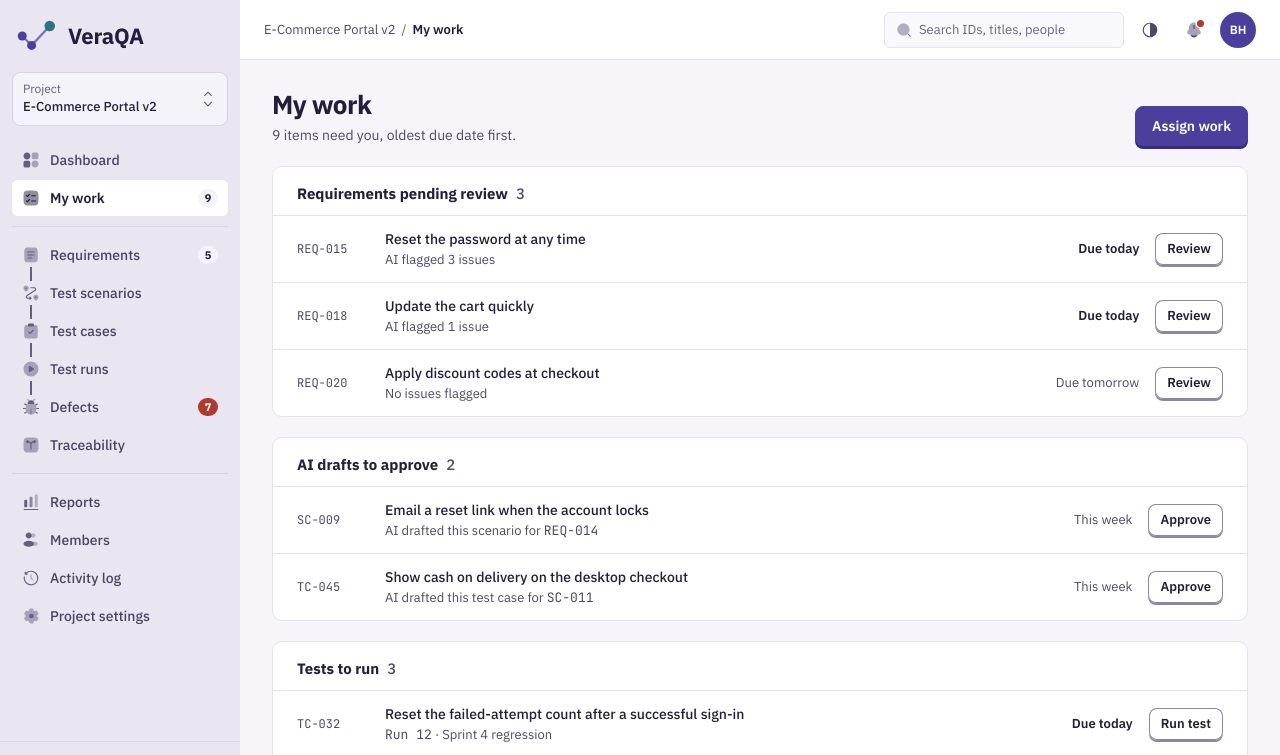
it: Assign work › offers only people who can do the picked work
The width and height of the screenshot is (1280, 755).
Step 1. Click the button "Assign work" → [1192, 126], box [1135,106,1248,146]
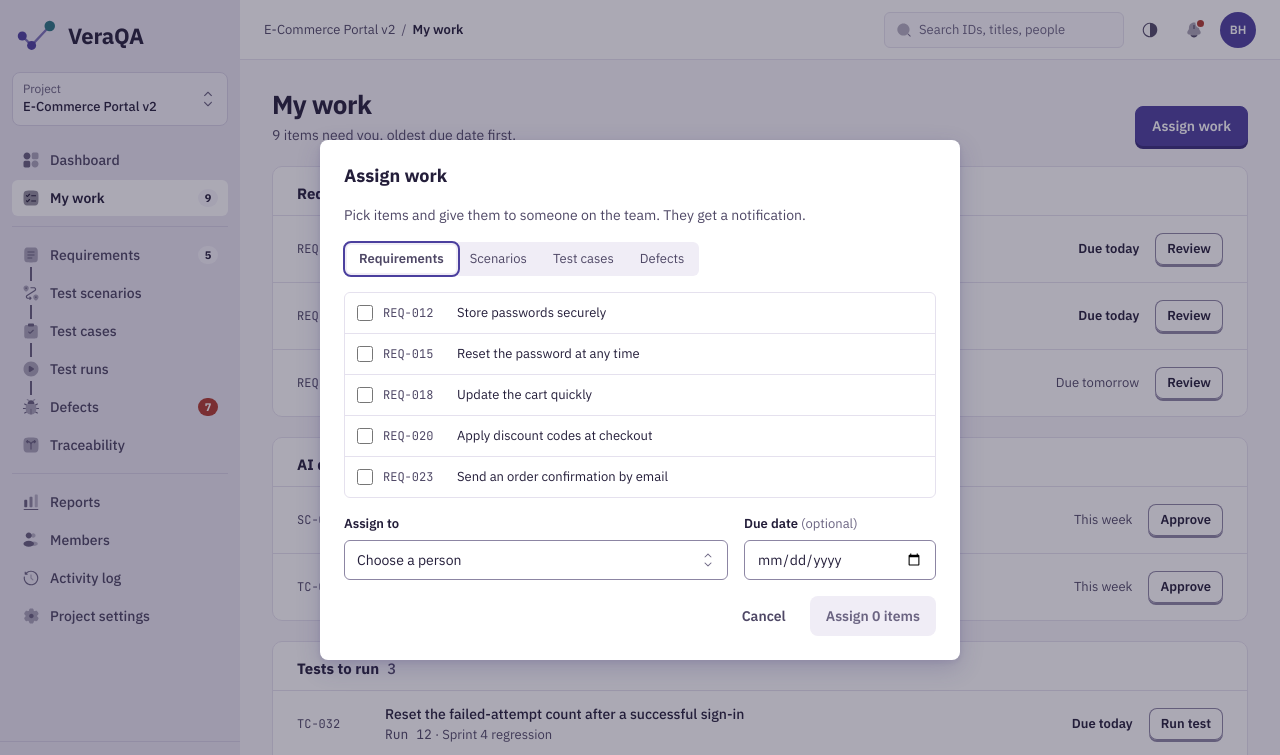
Step 2. Click the checkbox labelled "REQ-015 Reset the password at any time" → [365, 354], box [357,346,373,362]
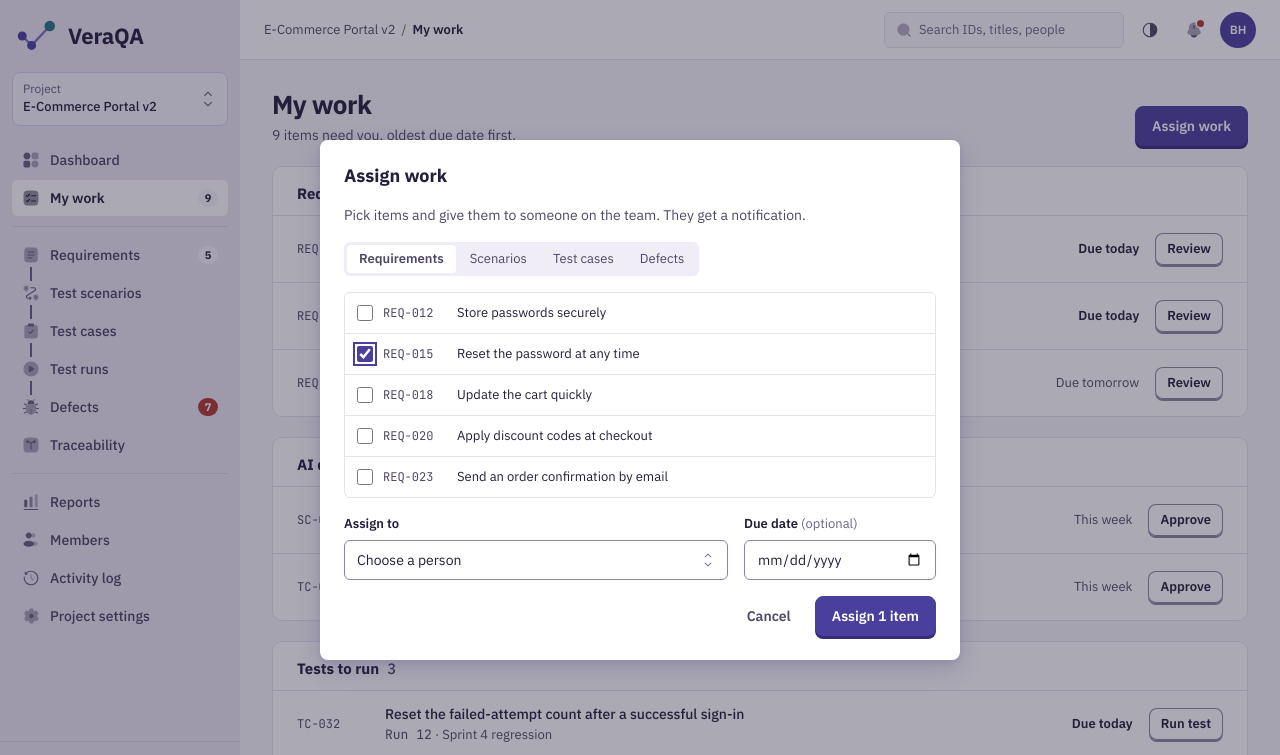
Step 3. Click the tab "Defects" → [662, 259], box [628,245,696,273]
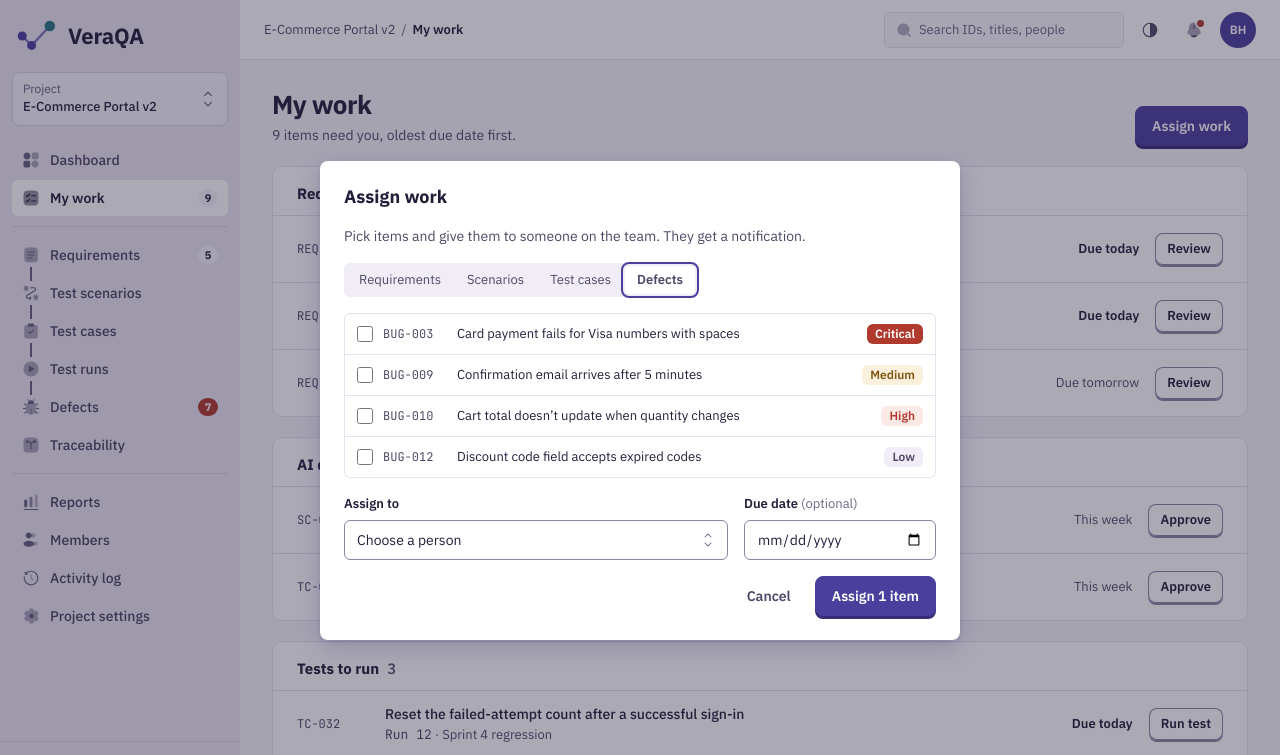
Step 4. Click the checkbox labelled "BUG-010 Cart total doesn’t update when quantity changes High" → [365, 416], box [357,408,373,424]
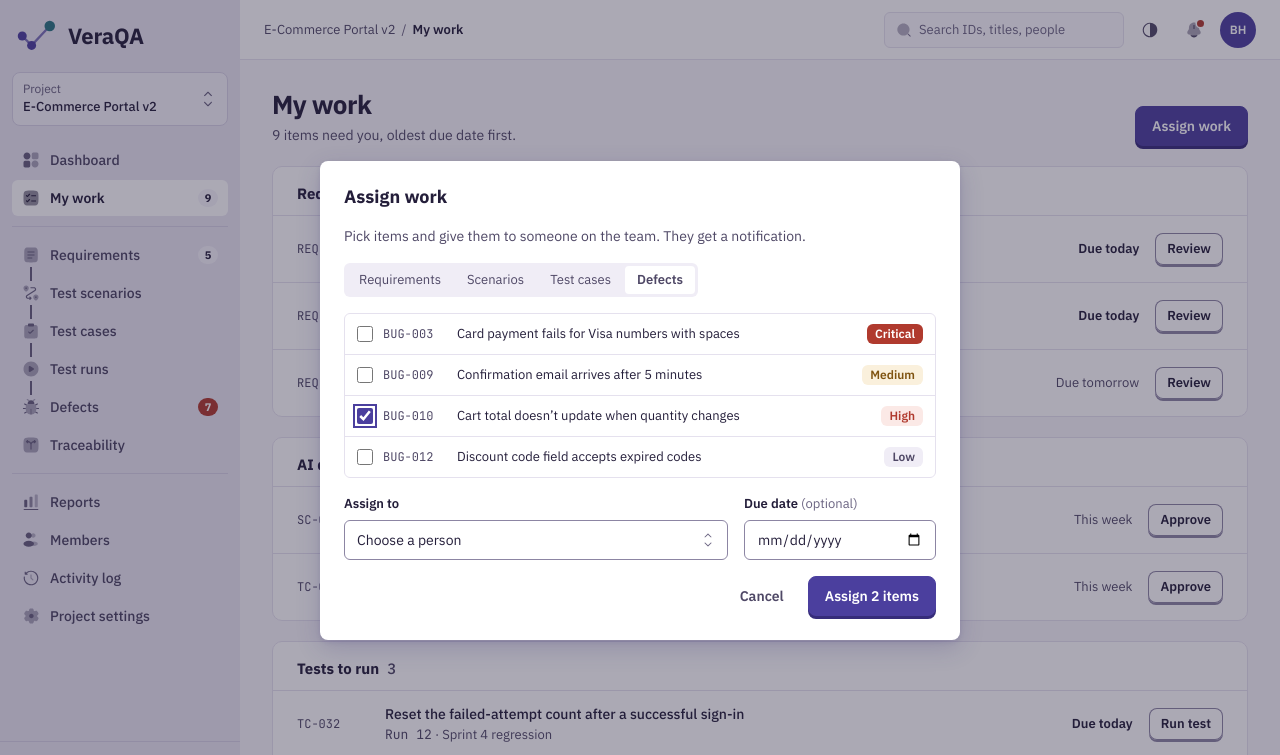
Expected: the button "Assign 2 items" is shown, [808,576,936,616]
